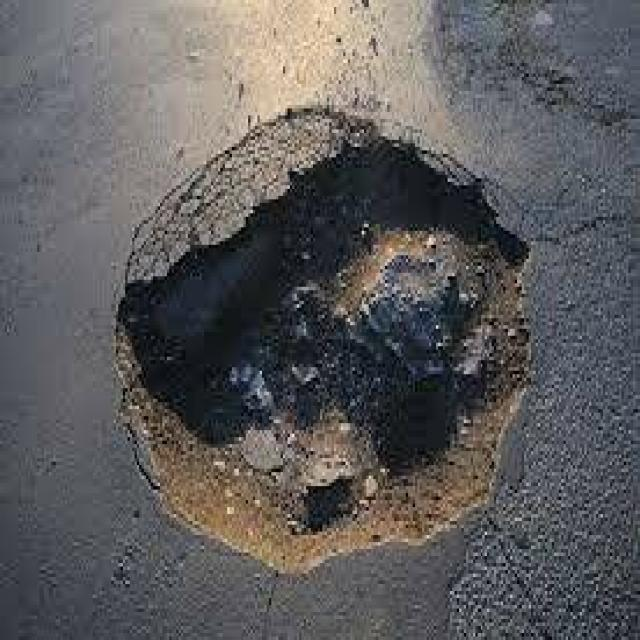Pothole: (93, 91, 559, 580)
